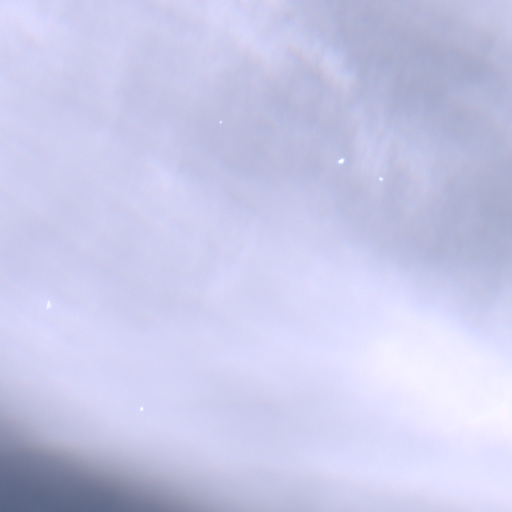Iceberg: (46, 300, 50, 309), (338, 158, 344, 163), (379, 177, 382, 180), (140, 407, 142, 410), (220, 121, 221, 123)
